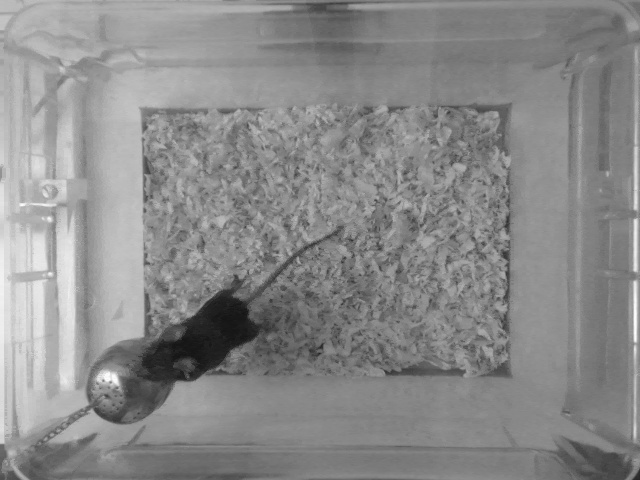mice: (138, 224, 350, 385)
